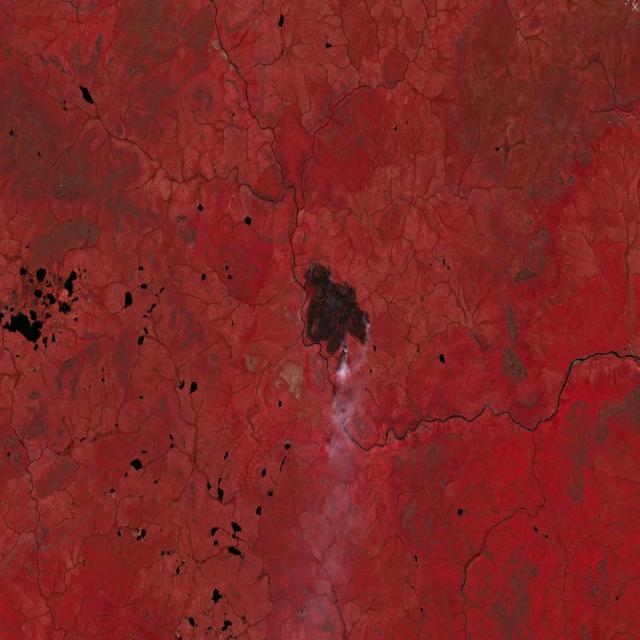fire: (301, 258, 373, 368)
